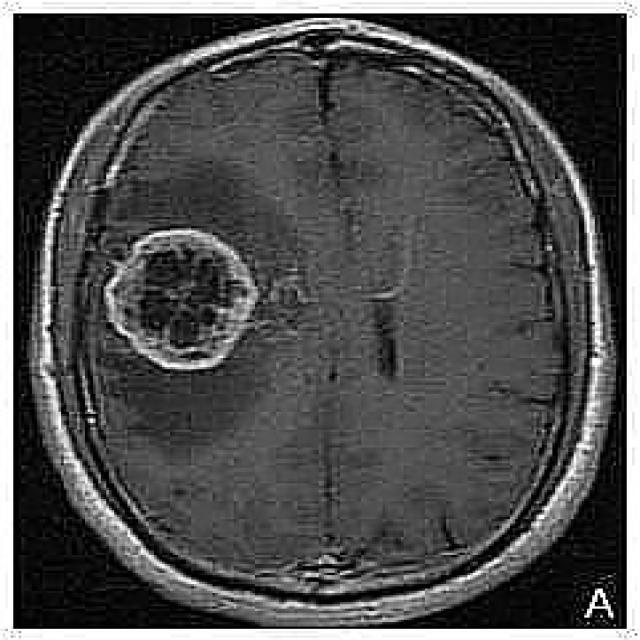Tumor-Cell: (107, 234, 261, 372)
